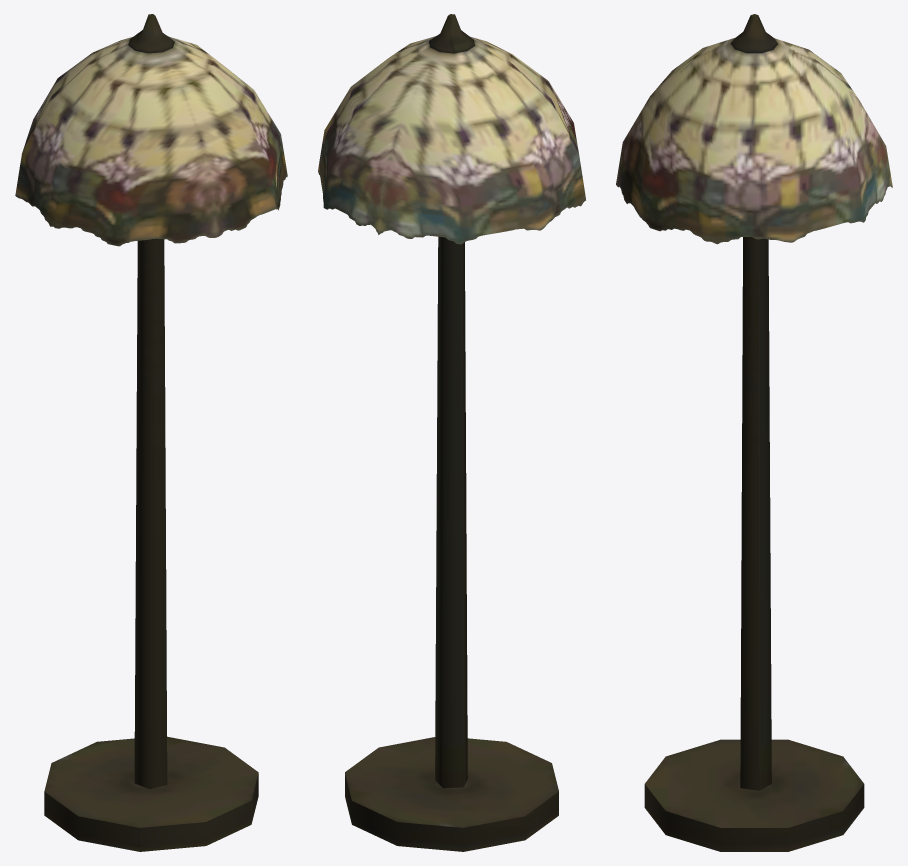
File: furni_0200056.FBX
3 renders of one model, left to right at view 1: azimuth 30°, elevation 25°; view 2: azimuth 150°, elevation 25°; view 3: azimuth 270°, elevation 25°, orthographic.
Visible parts, largest first — view 1: furni_0200056; view 2: furni_0200056; view 3: furni_0200056.
Boxes of the visible parts, x1,y1,x2,y2 form: furni_0200056: (15,14,287,851); furni_0200056: (318,14,585,851); furni_0200056: (616,14,892,851).
Size of the model in its own units: 44.07 by 144 by 45.82.
Materials: 1 (1 with a texture image).
